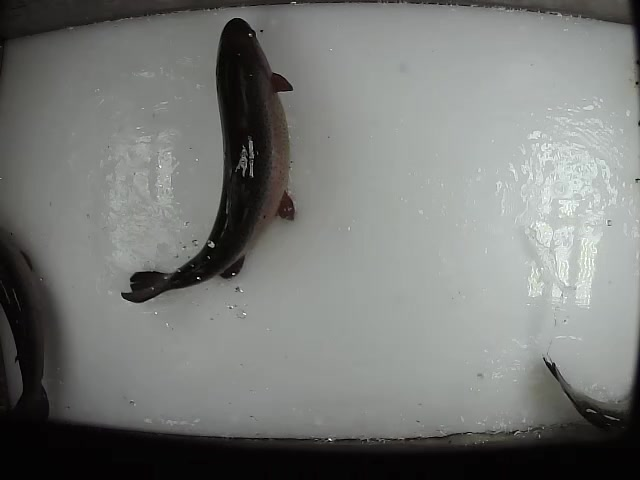fish: (120, 16, 297, 304), (2, 225, 52, 433), (537, 353, 640, 445)
